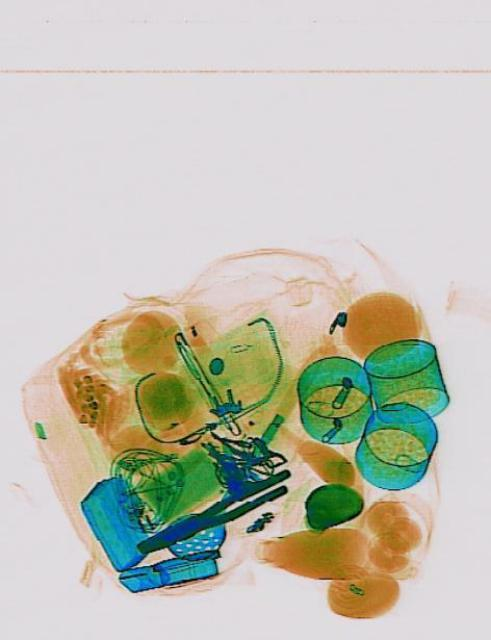Pliers: (131, 459, 294, 561)
